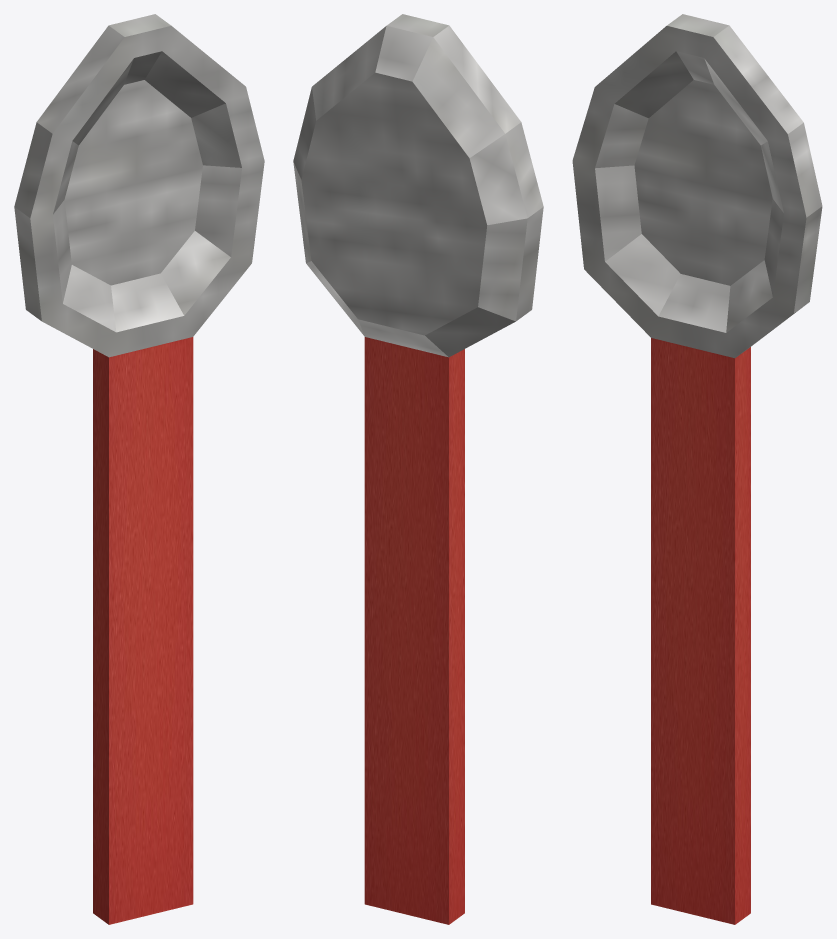
Rendered from spoon.FBX.
The picture shows the model from 3 angles, left to right: view 1: azimuth 30°, elevation 25°; view 2: azimuth 150°, elevation 25°; view 3: azimuth 330°, elevation 25°; orthographic projection.
Visible parts, largest first — view 1: Object002, Object001; view 2: Object002, Object001; view 3: Object002, Object001.
Part boxes in pixels (x1,y1,x2,y2): Object002: (14, 14, 264, 357); Object001: (93, 337, 193, 924); Object002: (293, 14, 543, 357); Object001: (364, 337, 464, 924); Object002: (572, 14, 822, 358); Object001: (651, 338, 750, 924).
Size of the model in its own units: 22.13 by 79.75 by 5.24.
2 materials, 2 textured.
